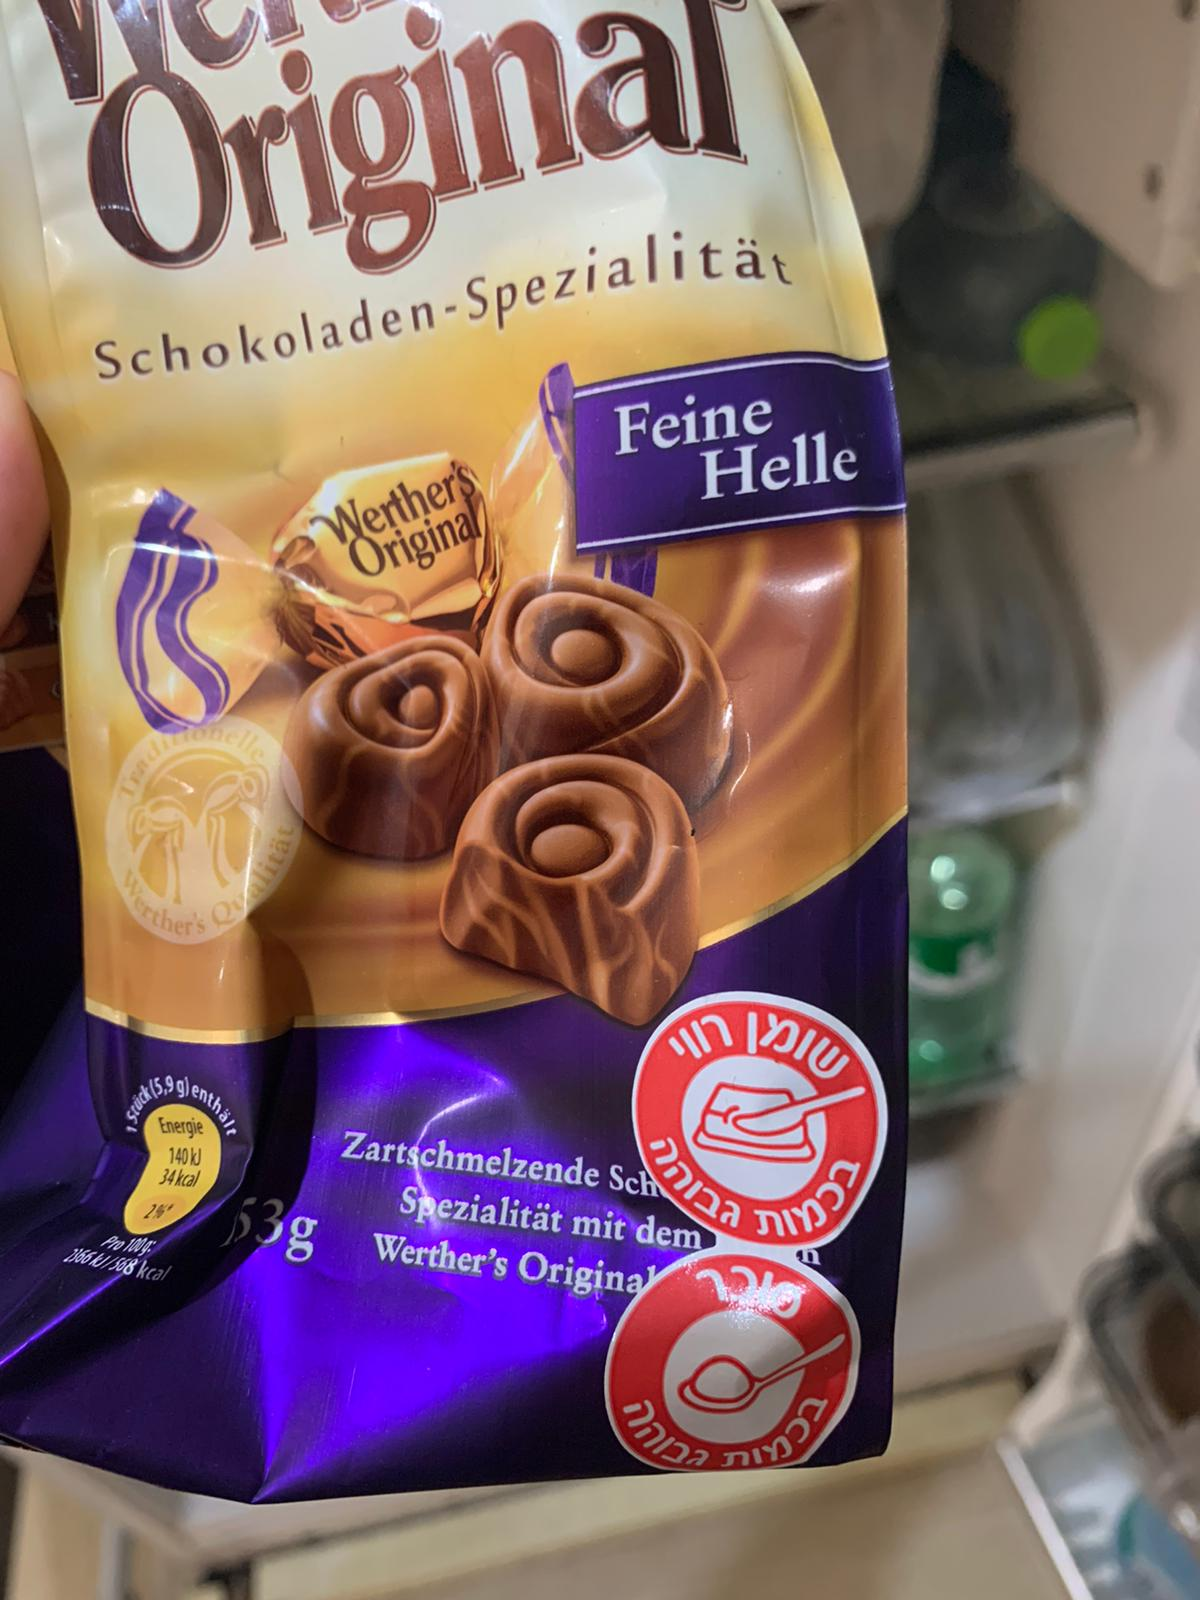fat: (632, 990, 891, 1245)
sugar: (601, 1245, 863, 1471)
